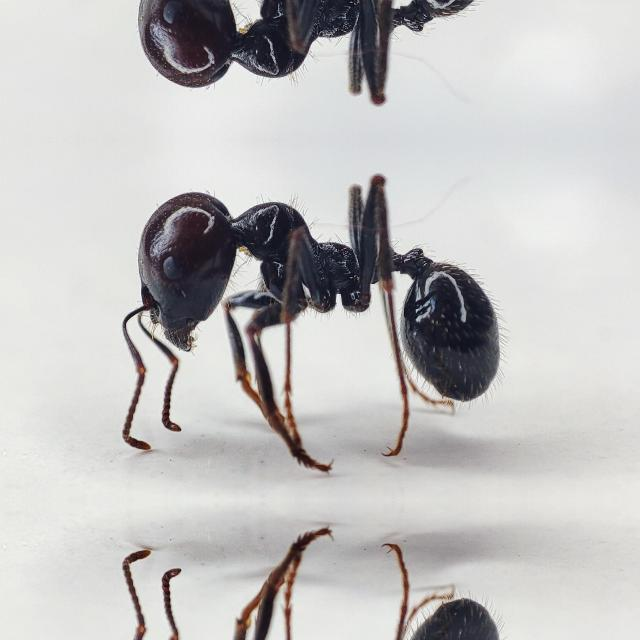Messor: (16, 140, 582, 464), (16, 0, 581, 140), (16, 536, 581, 640)
